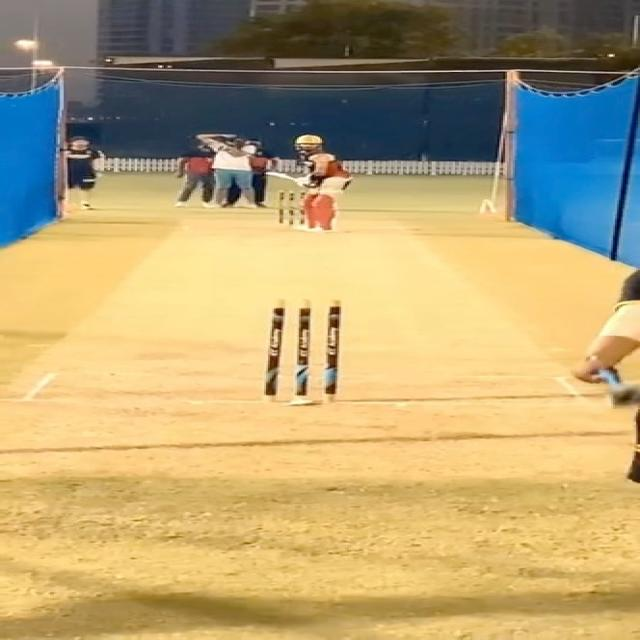batsman: (264, 134, 357, 233)
